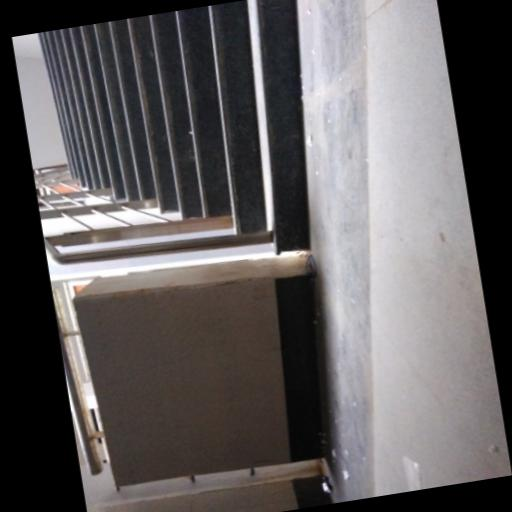stairs: (40, 0, 309, 250)
